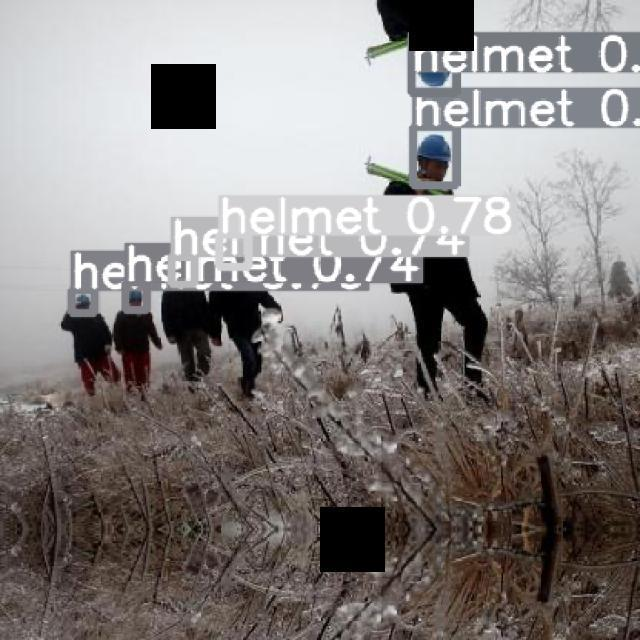blue helmet: (417, 130, 455, 165), (75, 295, 93, 315), (131, 288, 142, 307)
